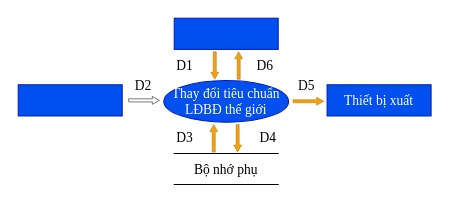
Image size: 449x203. Some labels were removed from this diagram. Each missing label, with the centre of its shape:
Người dùng: (225,33)
Thiết bị nhập: (69,100)
